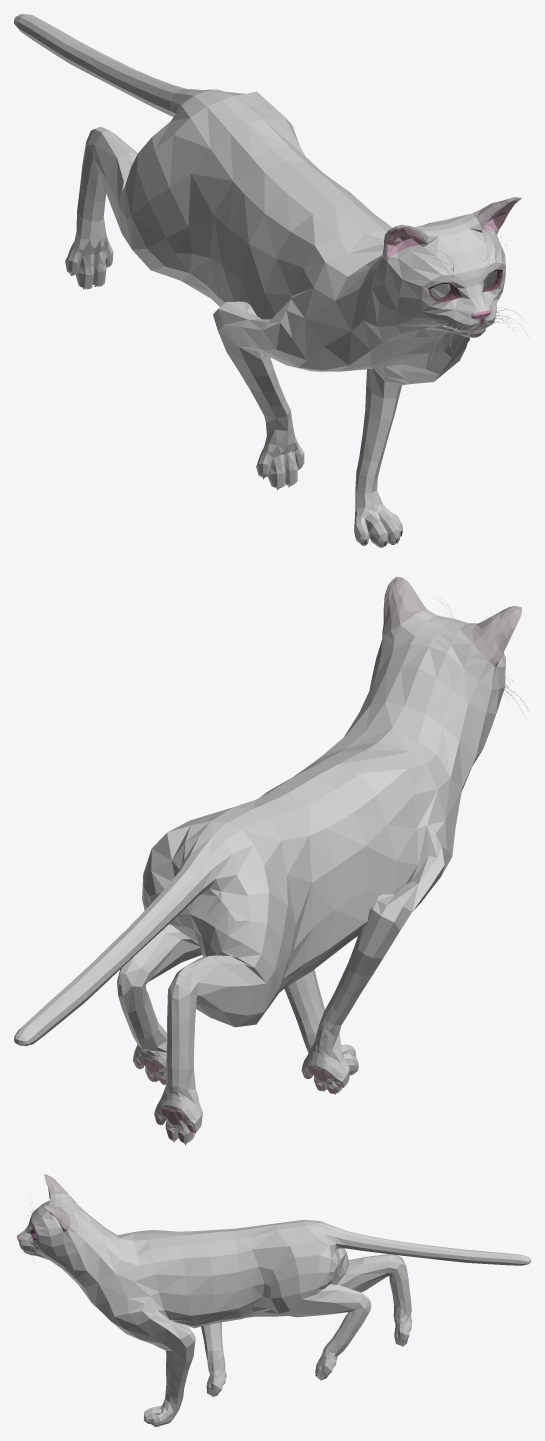
File: Run_F_06.glb
The picture shows the model from 3 angles, top to bottom: view 1: azimuth 30°, elevation 25°; view 2: azimuth 150°, elevation 25°; view 3: azimuth 270°, elevation 25°; orthographic projection. The views are drawn at different scales.
Visible parts, largest first — view 1: Run_F_06; view 2: Run_F_06; view 3: Run_F_06.
Part boxes in pixels (x1,y1,x2,y2): Run_F_06: [14, 14, 529, 547]; Run_F_06: [14, 576, 528, 1145]; Run_F_06: [17, 1174, 530, 1426].
Size of the model in its own units: 0.1696 by 0.3734 by 0.777.
Materials: 1 (1 with a texture image).
